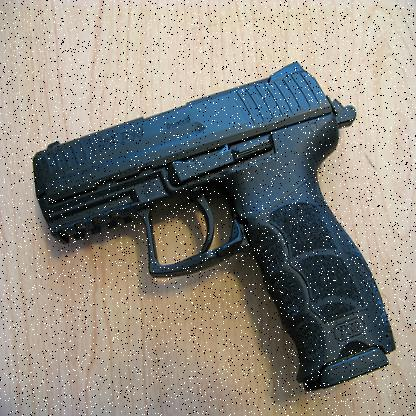pistol: (29, 62, 399, 388)
